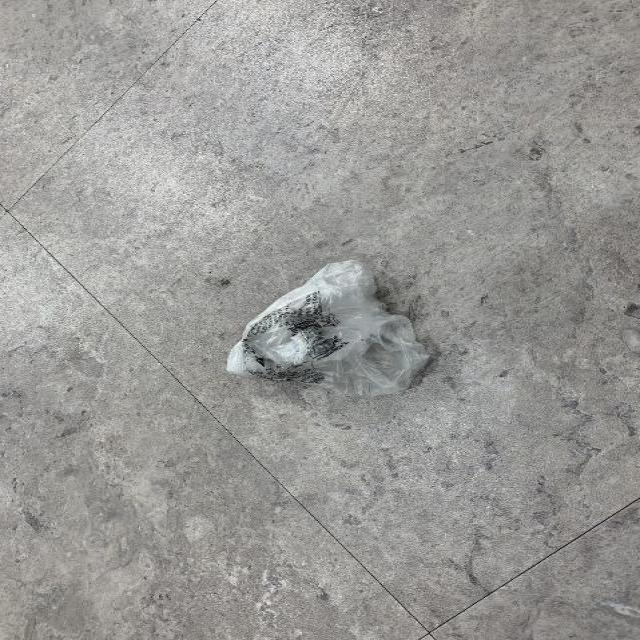plastic bag: (225, 257, 439, 405)
